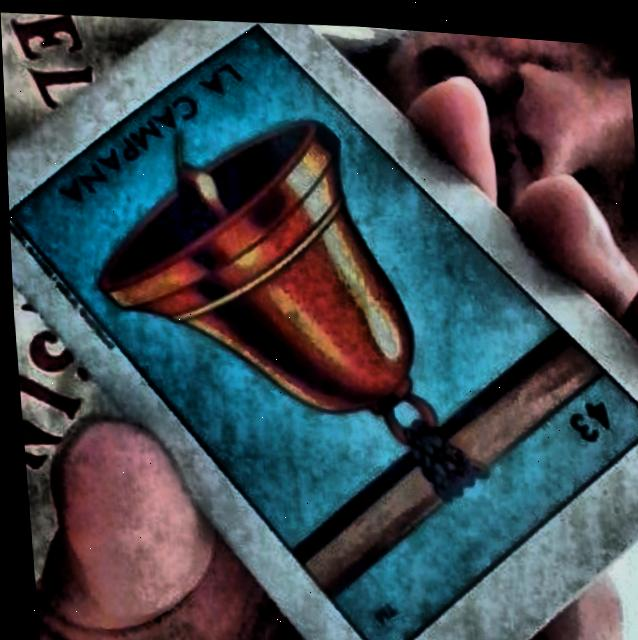La Campana: (7, 23, 638, 640)
